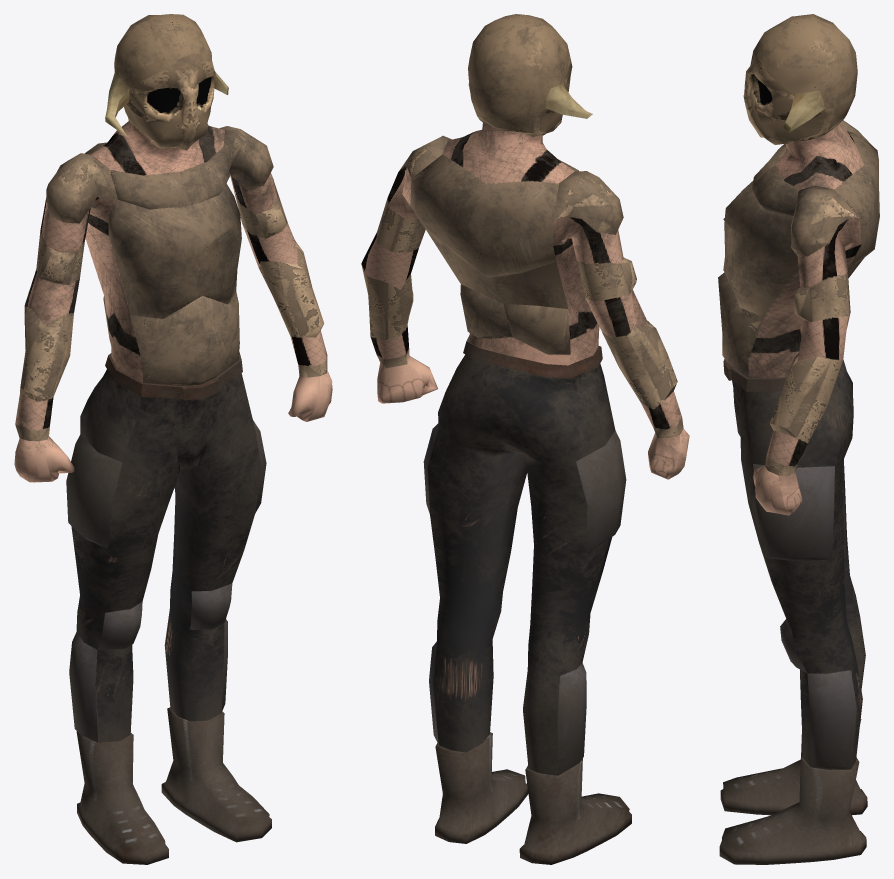
Rendered from Anim_cogerobjeto_npc1.0014.obj.
3 views of the same model, side by side, from view 1: azimuth 30°, elevation 25°; view 2: azimuth 150°, elevation 25°; view 3: azimuth 270°, elevation 25° (orthographic).
Parts seen in each view (by area): view 1: NPC2; view 2: NPC2; view 3: NPC2.
Part boxes in pixels (x1=…): NPC2: x1=14, y1=14, x2=332, y2=864; NPC2: x1=361, y1=14, x2=689, y2=864; NPC2: x1=718, y1=14, x2=879, y2=864.
Size of the model in its own units: 3.89 by 9.66 by 1.75.
